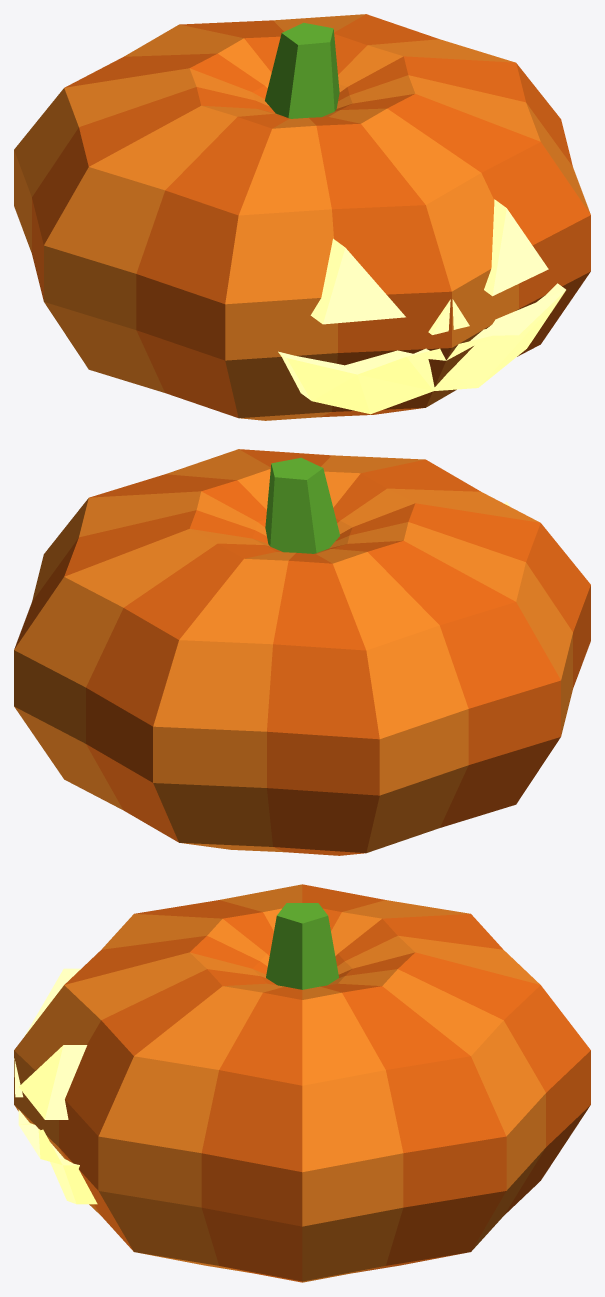
File: pumpkin-1x1.glb
3 renders of one model, top to bottom at view 1: azimuth 30°, elevation 25°; view 2: azimuth 150°, elevation 25°; view 3: azimuth 270°, elevation 25°, orthographic. The views are drawn at different scales.
Parts seen in each view (by area): view 1: pumpkin-1x1; view 2: pumpkin-1x1; view 3: pumpkin-1x1.
Part boxes in pixels (x1,y1,x2,y2): pumpkin-1x1: (14, 14, 590, 420); pumpkin-1x1: (14, 449, 590, 855); pumpkin-1x1: (14, 884, 590, 1282).
Size of the model in its own units: 0.8 by 0.4826 by 0.8.
Materials: 1 (1 with a texture image).
